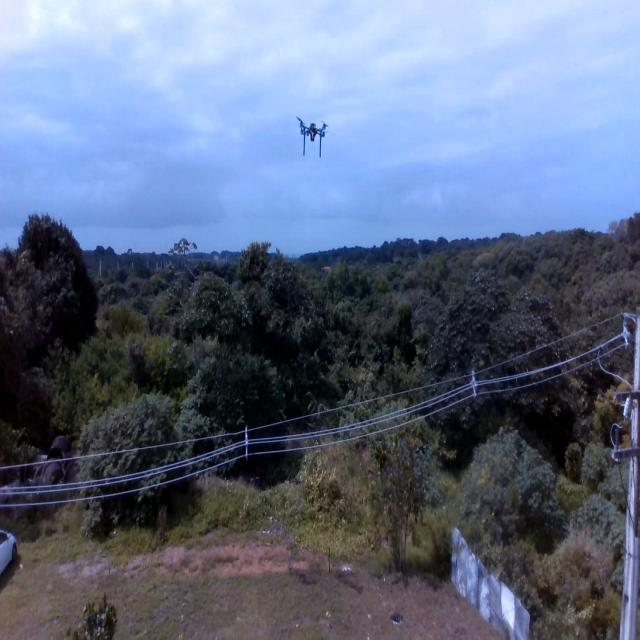-uav-: (291, 105, 334, 169)
